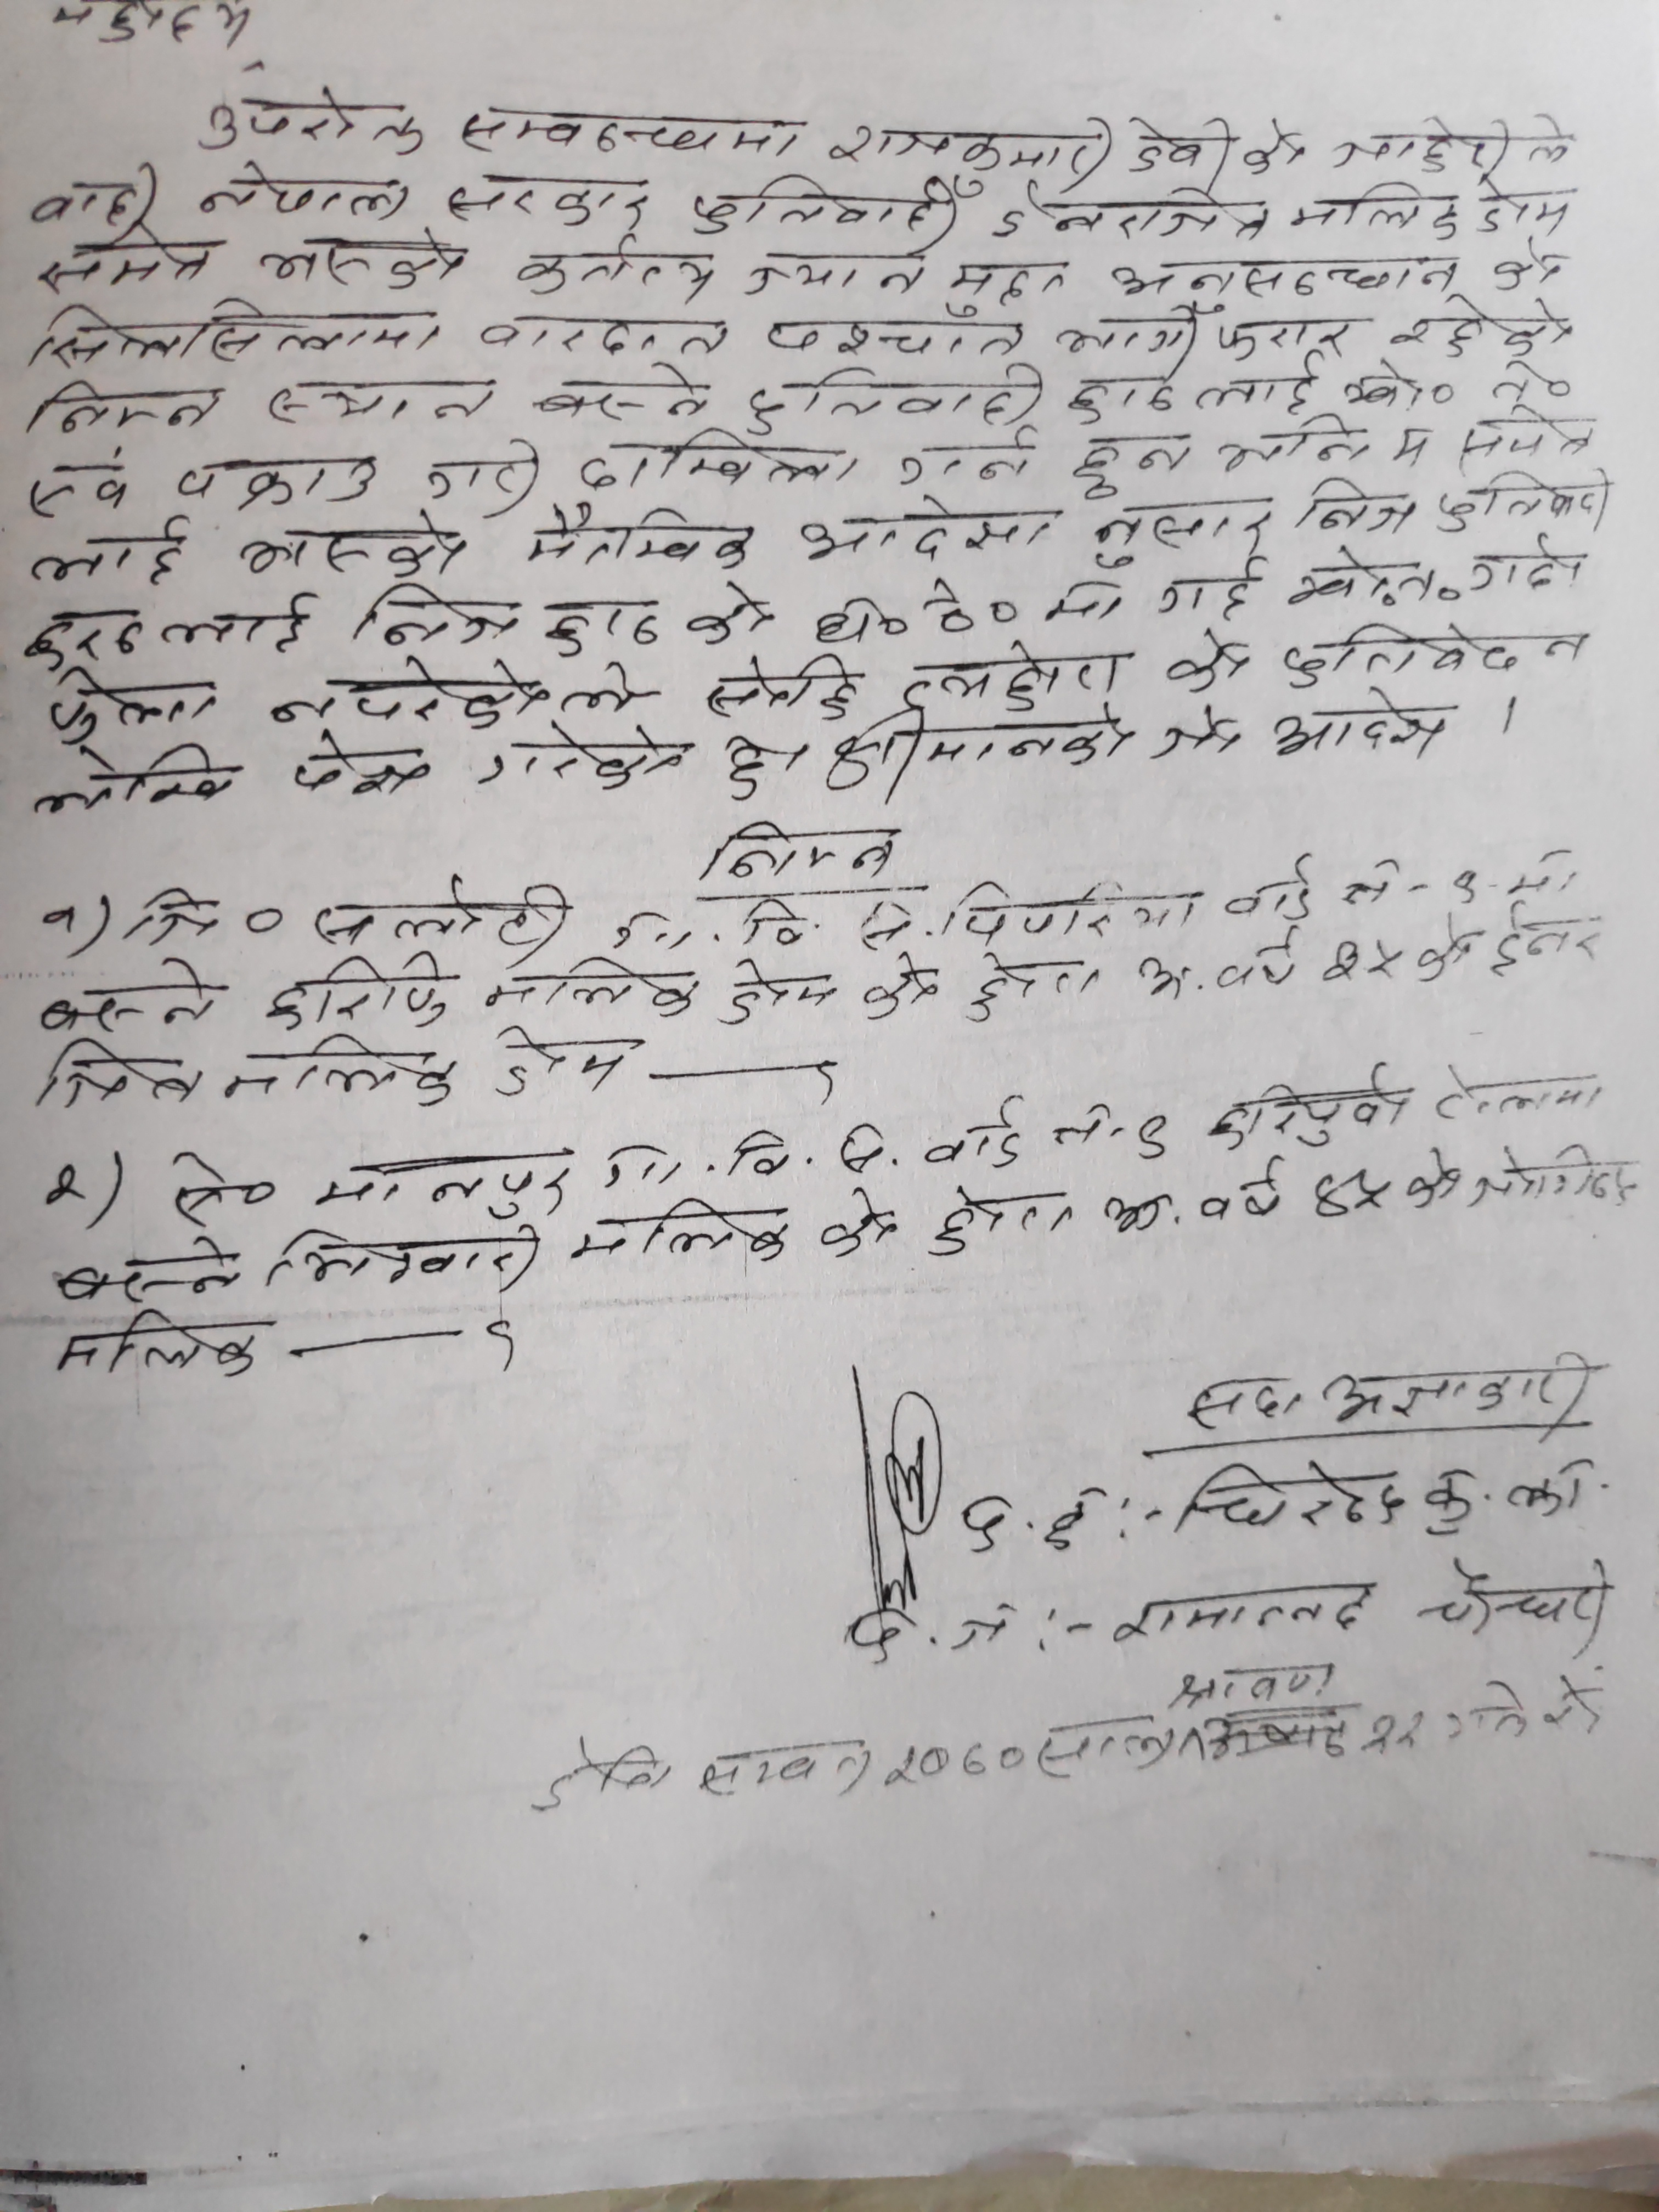text: (26, 296, 443, 368), (817, 704, 1134, 794), (267, 650, 640, 725), (1276, 604, 1593, 688), (1101, 235, 1455, 310), (453, 91, 807, 164), (350, 577, 666, 658), (685, 162, 962, 247), (24, 594, 317, 672), (809, 577, 1127, 648), (1169, 1449, 1408, 1543), (993, 165, 1276, 244), (572, 416, 857, 493), (1323, 1348, 1595, 1426), (596, 1122, 906, 1188), (268, 1224, 549, 1298), (739, 368, 1046, 434), (823, 106, 1114, 176), (1103, 1573, 1373, 1648), (220, 1029, 464, 1111), (308, 874, 575, 949), (932, 873, 1204, 944), (315, 1146, 572, 1221), (1208, 1059, 1415, 1151), (791, 495, 1056, 566), (518, 495, 758, 571), (192, 87, 430, 162), (509, 225, 716, 310), (52, 1308, 272, 1388), (572, 1191, 798, 1268), (197, 153, 420, 230), (1335, 106, 1581, 174), (1410, 1555, 1614, 1637), (26, 745, 247, 820), (483, 951, 708, 1024), (603, 900, 915, 953), (1333, 348, 1582, 413), (260, 949, 453, 1029), (28, 954, 221, 1033), (58, 1226, 244, 1306), (472, 723, 704, 787), (261, 225, 469, 296), (235, 517, 465, 580), (477, 308, 730, 364), (901, 650, 1129, 711), (699, 650, 866, 730), (1436, 465, 1619, 538), (439, 164, 652, 226), (263, 371, 502, 427), (171, 451, 389, 512), (701, 817, 901, 883), (1272, 690, 1453, 763), (33, 1036, 202, 1113), (1429, 1055, 1605, 1129), (1288, 174, 1467, 246), (760, 310, 1030, 357), (23, 374, 230, 435), (486, 1021, 638, 1103), (24, 516, 188, 590), (535, 359, 723, 423), (737, 242, 931, 303), (45, 669, 213, 738), (690, 1740, 884, 1799), (1089, 500, 1265, 564), (35, 237, 220, 298), (1290, 543, 1455, 611), (1384, 303, 1579, 361), (1124, 934, 1297, 998), (40, 2, 251, 52), (289, 730, 437, 799), (160, 1146, 282, 1230), (420, 434, 547, 514), (26, 160, 164, 233), (890, 420, 1039, 488), (1486, 895, 1601, 982), (1065, 428, 1201, 502), (1039, 1707, 1176, 1778), (1046, 303, 1197, 368), (1117, 105, 1230, 188), (23, 444, 143, 523), (1450, 404, 1600, 467), (716, 958, 843, 1029), (1460, 528, 1595, 594), (1188, 352, 1317, 420), (1213, 423, 1373, 477), (918, 1092, 1026, 1172), (1176, 1658, 1347, 1709), (946, 251, 1072, 319), (1222, 852, 1328, 928), (1293, 474, 1427, 533), (1211, 310, 1363, 361), (1188, 1150, 1290, 1223), (1180, 1374, 1307, 1432), (1056, 368, 1176, 427), (1164, 620, 1253, 700), (1478, 165, 1570, 242), (127, 883, 228, 951), (683, 578, 775, 650), (953, 942, 1039, 1019), (812, 1184, 903, 1256), (1155, 563, 1258, 625), (1307, 1160, 1396, 1231), (861, 954, 945, 1028), (924, 1181, 1007, 1252), (1152, 698, 1244, 761), (1317, 932, 1406, 991), (1486, 233, 1565, 294), (1415, 909, 1473, 991), (708, 733, 774, 803), (1239, 115, 1309, 178), (1399, 1141, 1460, 1209), (1384, 416, 1438, 467), (40, 897, 82, 941)
